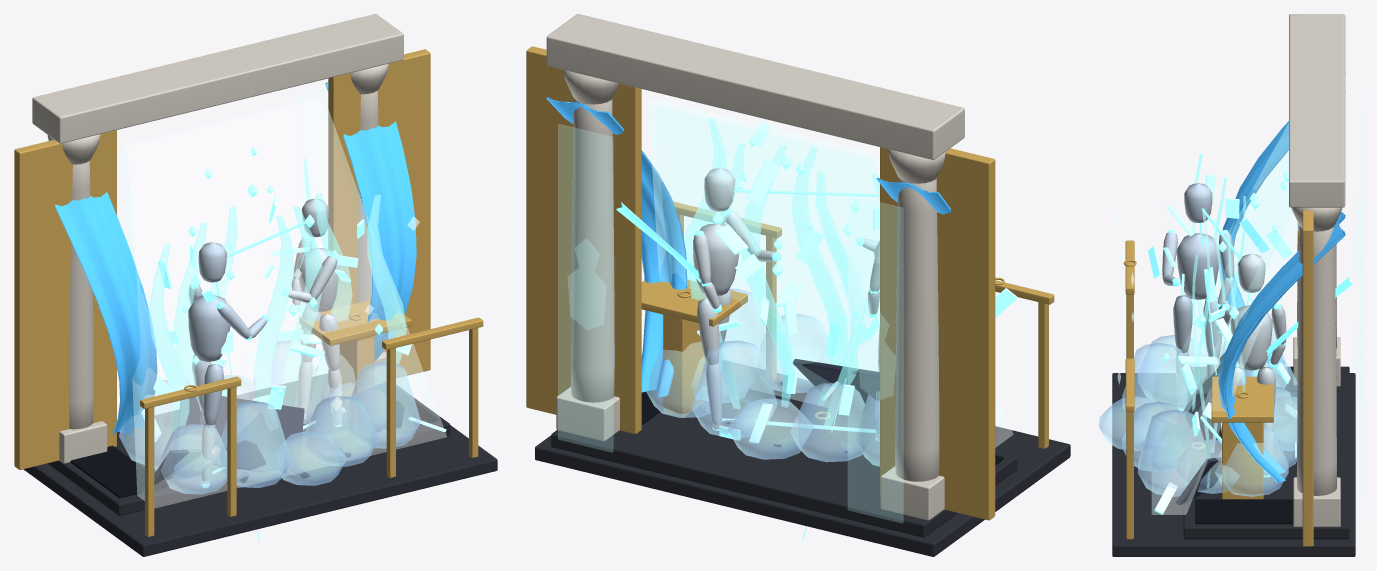
File: webtoon-duo-action-standoff-clash-v29.glb
The picture shows the model from 3 angles, left to right: view 1: azimuth 30°, elevation 25°; view 2: azimuth 150°, elevation 25°; view 3: azimuth 270°, elevation 25°; orthographic projection. The views are drawn at different scales.
Visible parts, largest first — view 1: Volumetric_V29Duo3_Clash_GodRaySlit, Articulated_V29Duo3_Clash_DoorsAndIkRig, V29Duo3_Clash_PortalColonnade, V29Duo3_Clash_DatumDeck, AftermathDust_V29Duo3_Clash_PlumeLobes, WindDrape_V29Duo3_Clash_CatenaryPair, ThermalHaze_V29Duo3_Clash_ConvectiveRibbons, Aftermath_V29Duo3_Clash_DatumProps, DuoVrm_V29Duo3_Clash_LeadA, DuoVrm_V29Duo3_Clash_LeadB, Aftermath_V29Duo3_Clash_PrismShards, ShadowDrift_V29Duo3_Clash_UmbraMask (+2 smaller); view 2: Articulated_V29Duo3_Clash_DoorsAndIkRig, V29Duo3_Clash_PortalColonnade, Volumetric_V29Duo3_Clash_GodRaySlit, HalfMirror_V29Duo3_Clash_FresnelReflection, V29Duo3_Clash_DatumDeck, AftermathDust_V29Duo3_Clash_PlumeLobes, ThermalHaze_V29Duo3_Clash_ConvectiveRibbons, WindDrape_V29Duo3_Clash_CatenaryPair, DuoVrm_V29Duo3_Clash_LeadB, Aftermath_V29Duo3_Clash_PrismShards, Aftermath_V29Duo3_Clash_DatumProps, DuoVrm_V29Duo3_Clash_EyelineAndAxis180 (+2 smaller); view 3: V29Duo3_Clash_PortalColonnade, V29Duo3_Clash_DatumDeck, AftermathDust_V29Duo3_Clash_PlumeLobes, Volumetric_V29Duo3_Clash_GodRaySlit, Articulated_V29Duo3_Clash_DoorsAndIkRig, WindDrape_V29Duo3_Clash_CatenaryPair, DuoVrm_V29Duo3_Clash_LeadA, Aftermath_V29Duo3_Clash_PrismShards, DuoVrm_V29Duo3_Clash_LeadB, ThermalHaze_V29Duo3_Clash_ConvectiveRibbons, ShadowDrift_V29Duo3_Clash_UmbraMask, Aftermath_V29Duo3_Clash_DatumProps (+3 smaller).
Boxes of the visible parts, bbox=[...] form: Volumetric_V29Duo3_Clash_GodRaySlit: bbox=[123, 98, 446, 507]; Articulated_V29Duo3_Clash_DoorsAndIkRig: bbox=[14, 49, 483, 536]; V29Duo3_Clash_PortalColonnade: bbox=[32, 14, 403, 463]; V29Duo3_Clash_DatumDeck: bbox=[23, 373, 497, 556]; AftermathDust_V29Duo3_Clash_PlumeLobes: bbox=[119, 341, 420, 494]; WindDrape_V29Duo3_Clash_CatenaryPair: bbox=[55, 82, 416, 434]; ThermalHaze_V29Duo3_Clash_ConvectiveRibbons: bbox=[148, 193, 406, 432]; Aftermath_V29Duo3_Clash_DatumProps: bbox=[142, 382, 413, 494]; DuoVrm_V29Duo3_Clash_LeadA: bbox=[188, 242, 266, 483]; DuoVrm_V29Duo3_Clash_LeadB: bbox=[288, 198, 341, 425]; Aftermath_V29Duo3_Clash_PrismShards: bbox=[141, 193, 446, 441]; ShadowDrift_V29Duo3_Clash_UmbraMask: bbox=[70, 391, 438, 498]; Articulated_V29Duo3_Clash_DoorsAndIkRig: bbox=[526, 46, 1054, 520]; V29Duo3_Clash_PortalColonnade: bbox=[546, 14, 964, 520]; Volumetric_V29Duo3_Clash_GodRaySlit: bbox=[648, 99, 1013, 447]; HalfMirror_V29Duo3_Clash_FresnelReflection: bbox=[558, 124, 903, 522]; V29Duo3_Clash_DatumDeck: bbox=[535, 366, 1070, 556]; AftermathDust_V29Duo3_Clash_PlumeLobes: bbox=[646, 289, 879, 466]; ThermalHaze_V29Duo3_Clash_ConvectiveRibbons: bbox=[683, 118, 879, 429]; WindDrape_V29Duo3_Clash_CatenaryPair: bbox=[546, 97, 950, 397]; DuoVrm_V29Duo3_Clash_LeadB: bbox=[693, 168, 774, 429]; Aftermath_V29Duo3_Clash_PrismShards: bbox=[687, 122, 1017, 443]; Aftermath_V29Duo3_Clash_DatumProps: bbox=[725, 359, 879, 456]; DuoVrm_V29Duo3_Clash_EyelineAndAxis180: bbox=[616, 189, 879, 540]; V29Duo3_Clash_PortalColonnade: bbox=[1289, 14, 1345, 526]; V29Duo3_Clash_DatumDeck: bbox=[1112, 366, 1355, 556]; AftermathDust_V29Duo3_Clash_PlumeLobes: bbox=[1099, 325, 1297, 496]; Volumetric_V29Duo3_Clash_GodRaySlit: bbox=[1152, 123, 1299, 514]; Articulated_V29Duo3_Clash_DoorsAndIkRig: bbox=[1123, 209, 1313, 546]; WindDrape_V29Duo3_Clash_CatenaryPair: bbox=[1218, 72, 1345, 482]; DuoVrm_V29Duo3_Clash_LeadA: bbox=[1162, 183, 1234, 407]; Aftermath_V29Duo3_Clash_PrismShards: bbox=[1148, 174, 1297, 514]; DuoVrm_V29Duo3_Clash_LeadB: bbox=[1217, 253, 1286, 475]; ThermalHaze_V29Duo3_Clash_ConvectiveRibbons: bbox=[1192, 153, 1245, 488]; ShadowDrift_V29Duo3_Clash_UmbraMask: bbox=[1195, 367, 1296, 524]; Aftermath_V29Duo3_Clash_DatumProps: bbox=[1141, 348, 1279, 504].
Bounding box in the file's own units: 3.2 × 3.32 × 1.78.
